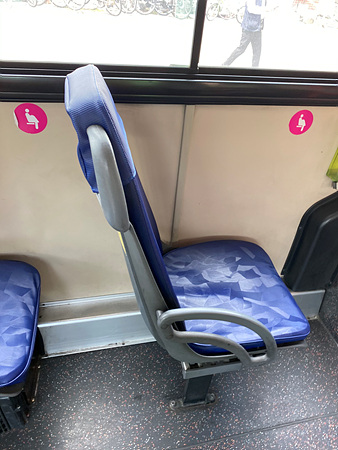seat: (67, 61, 314, 365)
